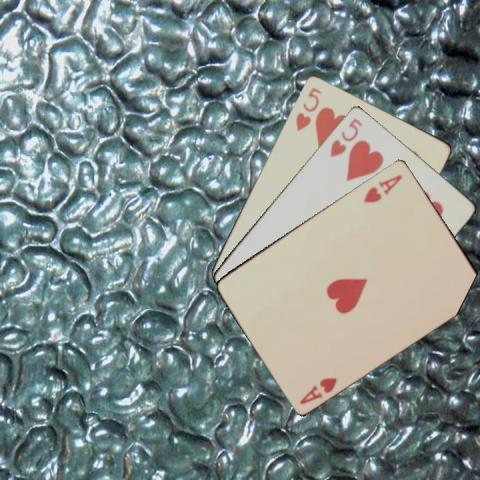5h: (327, 115, 364, 158), (292, 84, 323, 132)
Ah: (360, 171, 404, 204), (296, 374, 339, 405)
